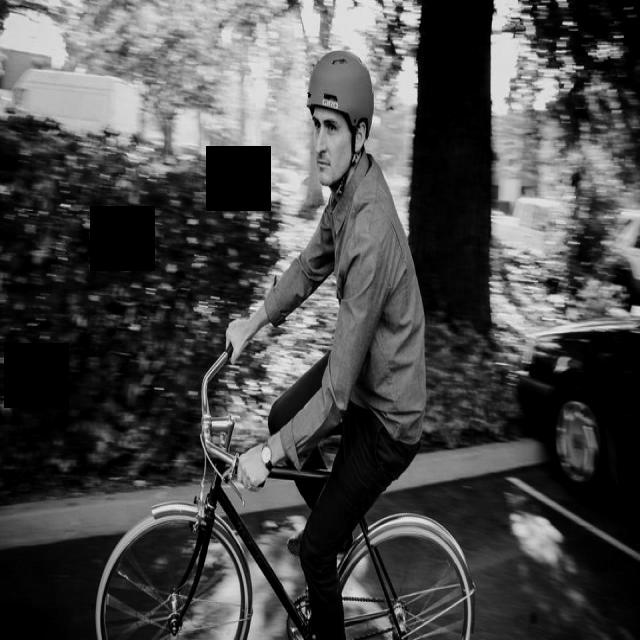helmet: (306, 49, 374, 138)
